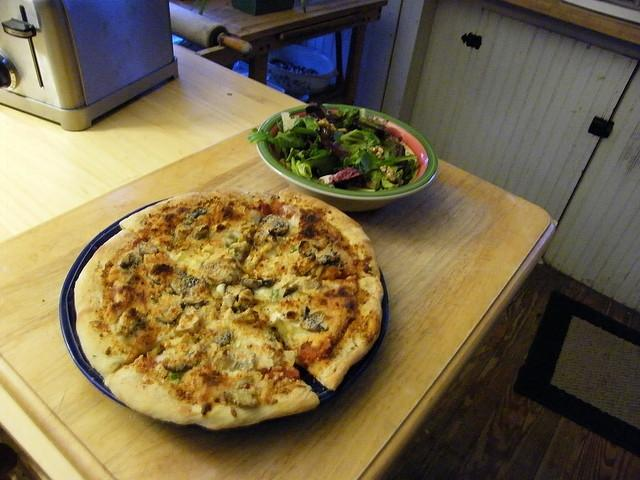lettuce: (343, 148, 418, 175), (247, 127, 306, 147), (285, 143, 329, 168), (367, 166, 404, 192), (374, 130, 406, 158), (306, 102, 346, 123), (318, 166, 362, 185), (358, 108, 389, 130), (340, 130, 380, 146), (401, 159, 419, 182), (342, 108, 360, 128), (296, 160, 312, 180), (294, 118, 306, 128), (377, 180, 385, 191)
